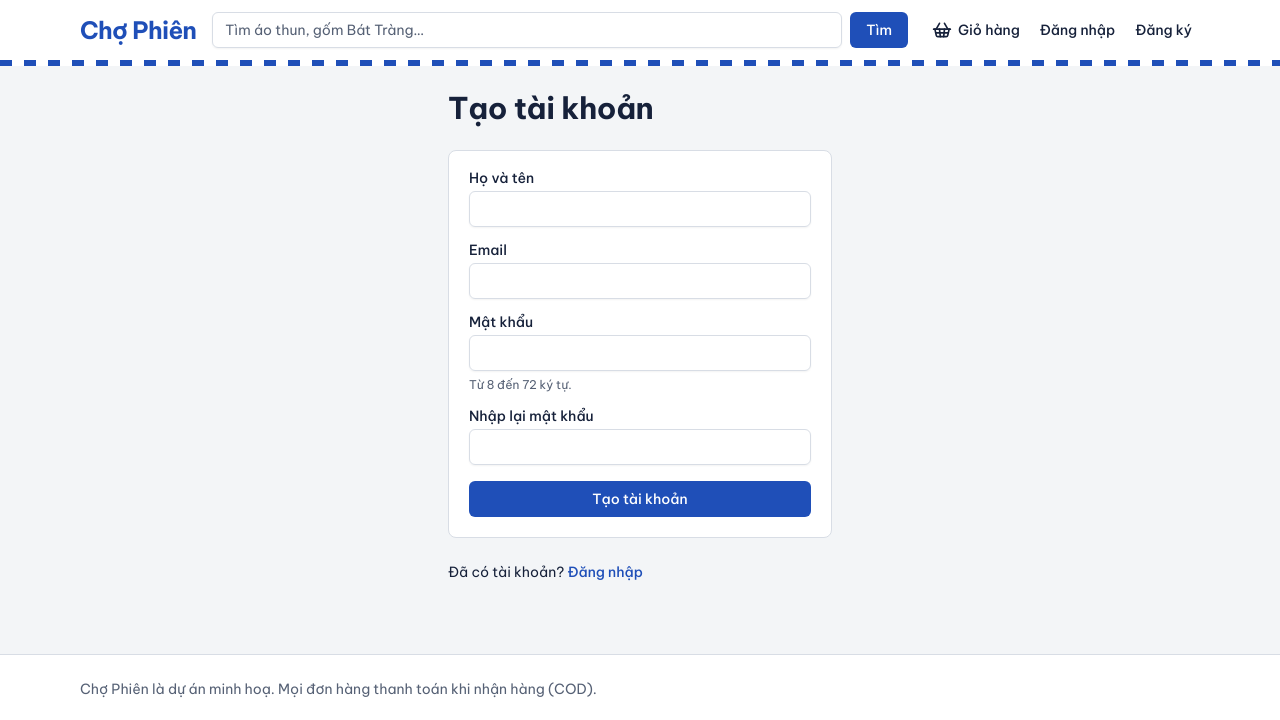
mismatched passwords and short passwords are rejected on the client
Type "Minh" into the field labelled "Họ và tên" at (640, 209), box top-left (469, 191), bottom-right (811, 227)
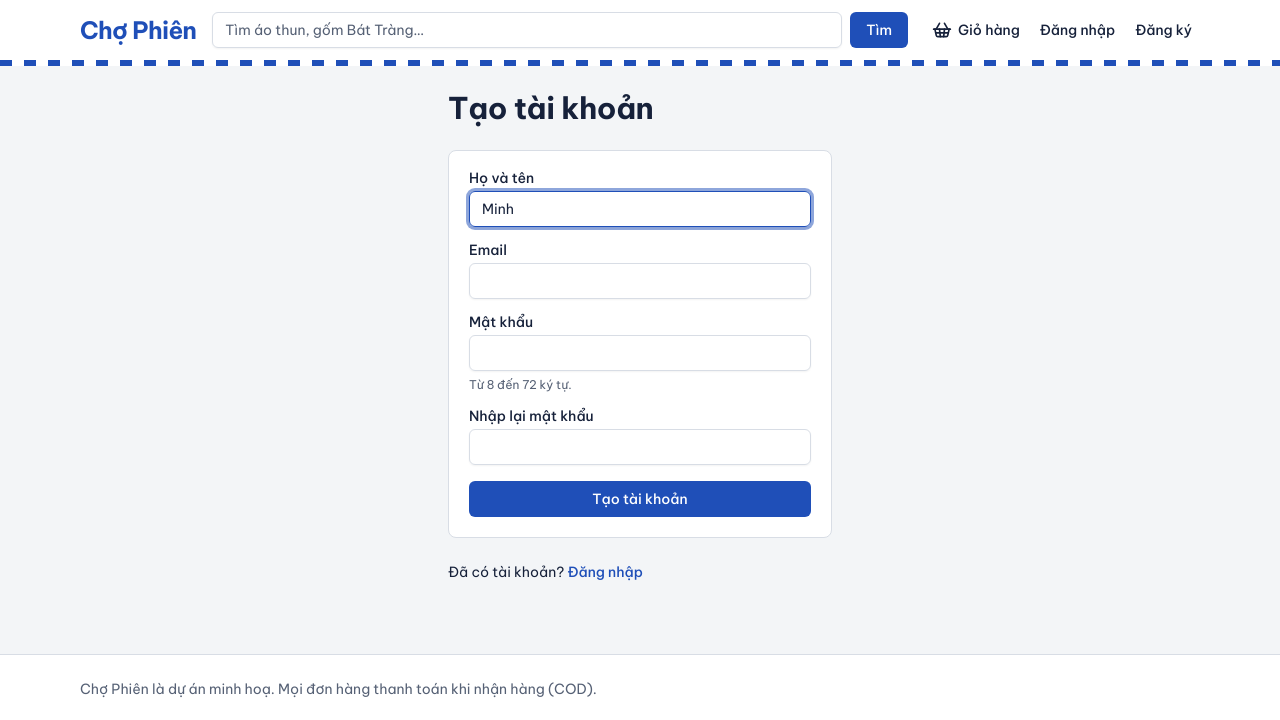
Type "minh@example.com" into the field labelled "Email" at (640, 281), box top-left (469, 263), bottom-right (811, 299)
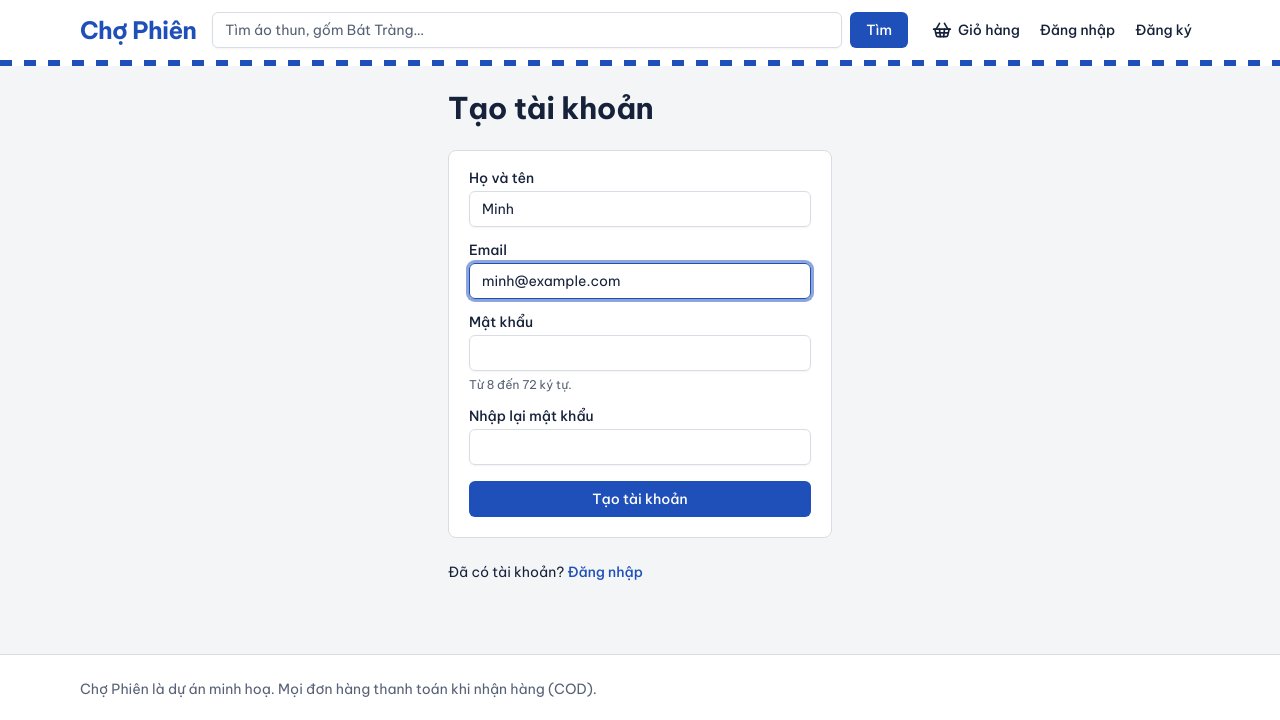
Type "ngan" into the password field labelled "Mật khẩu" at (640, 353), box top-left (469, 335), bottom-right (811, 371)
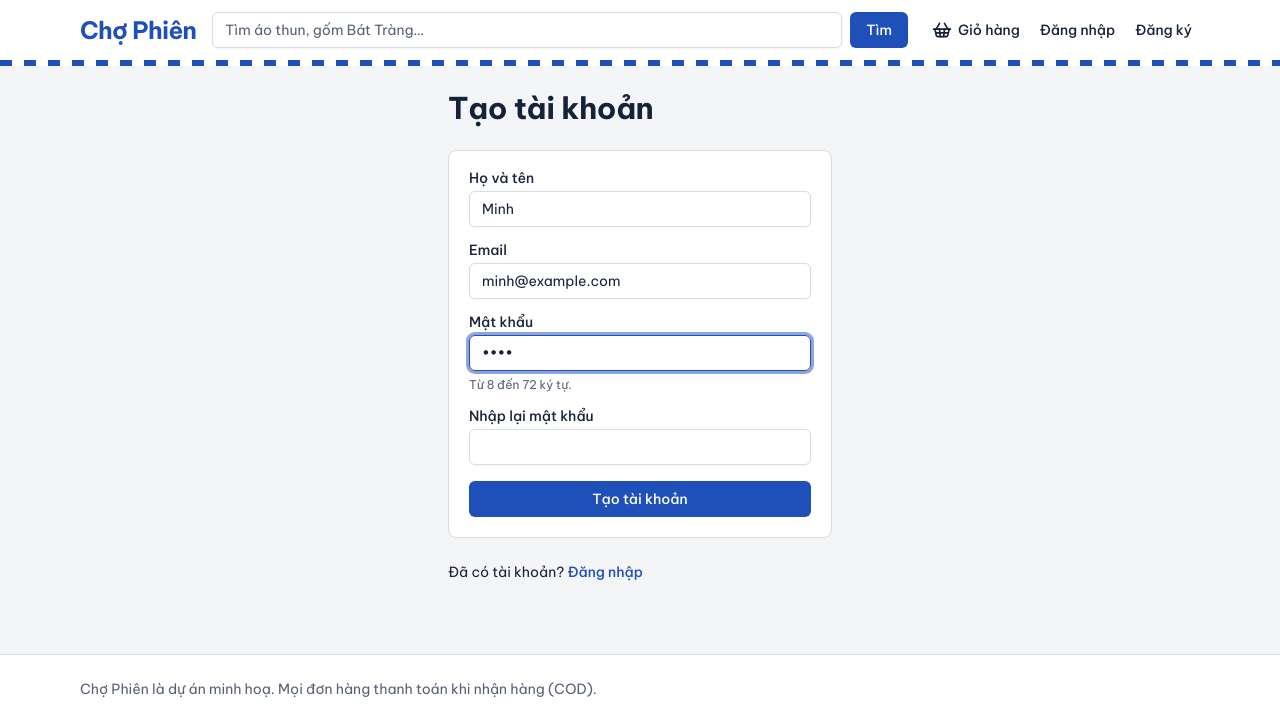
Type "khac" into the password field labelled "Nhập lại mật khẩu" at (640, 447), box top-left (469, 429), bottom-right (811, 465)
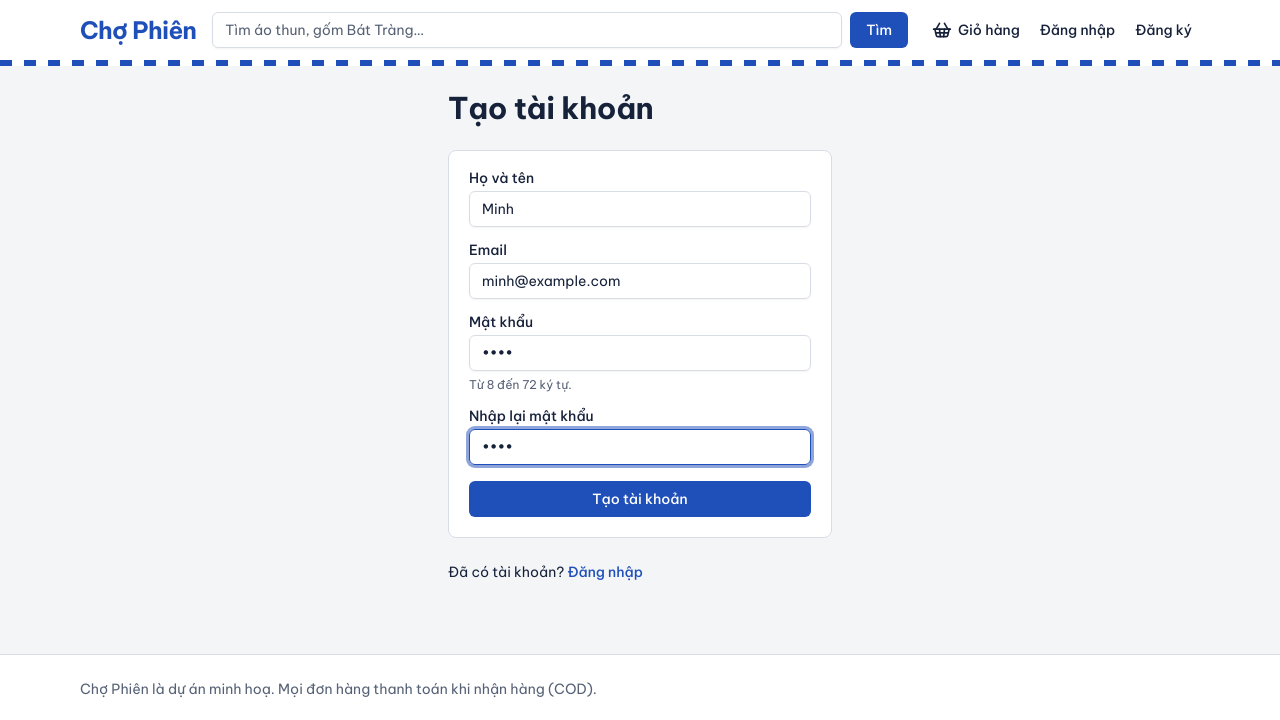
Click the button "Tạo tài khoản" at (640, 499), box top-left (469, 481), bottom-right (811, 517)
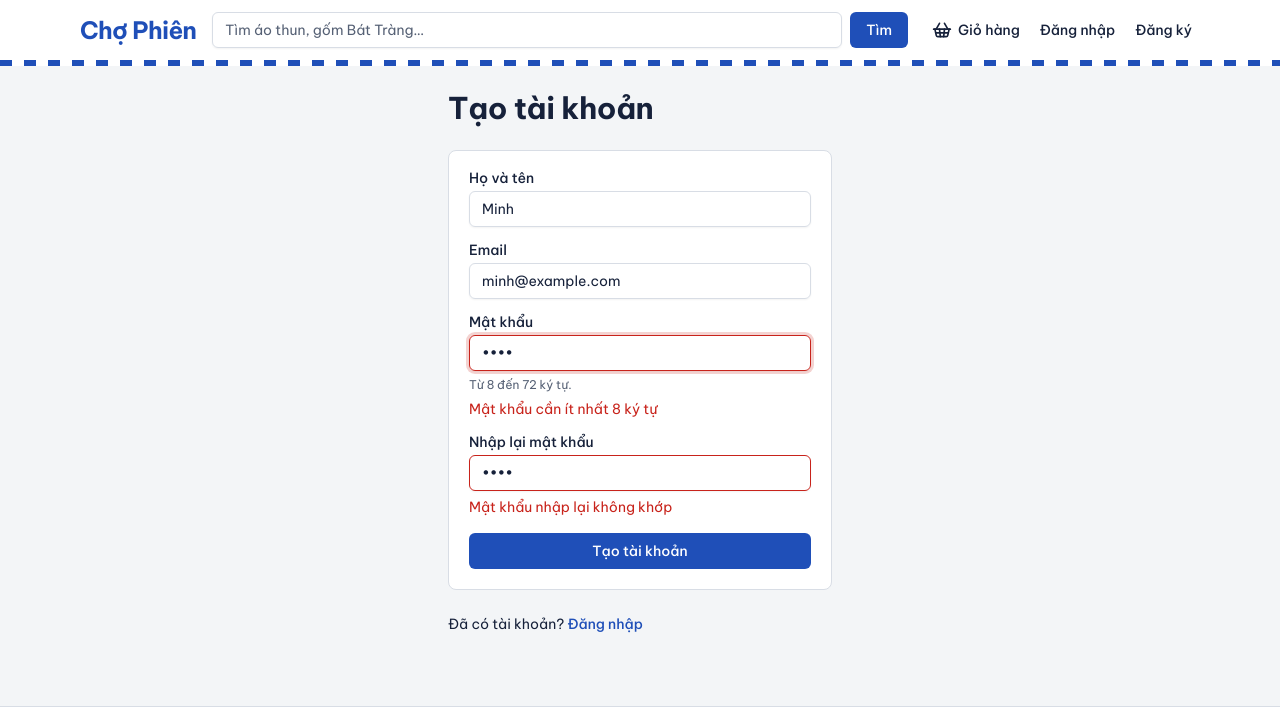
Now the text "Mật khẩu cần ít nhất 8 ký tự" is shown, box top-left (469, 400), bottom-right (658, 418)
Now the text "Mật khẩu nhập lại không khớp" is shown, box top-left (469, 498), bottom-right (672, 516)
